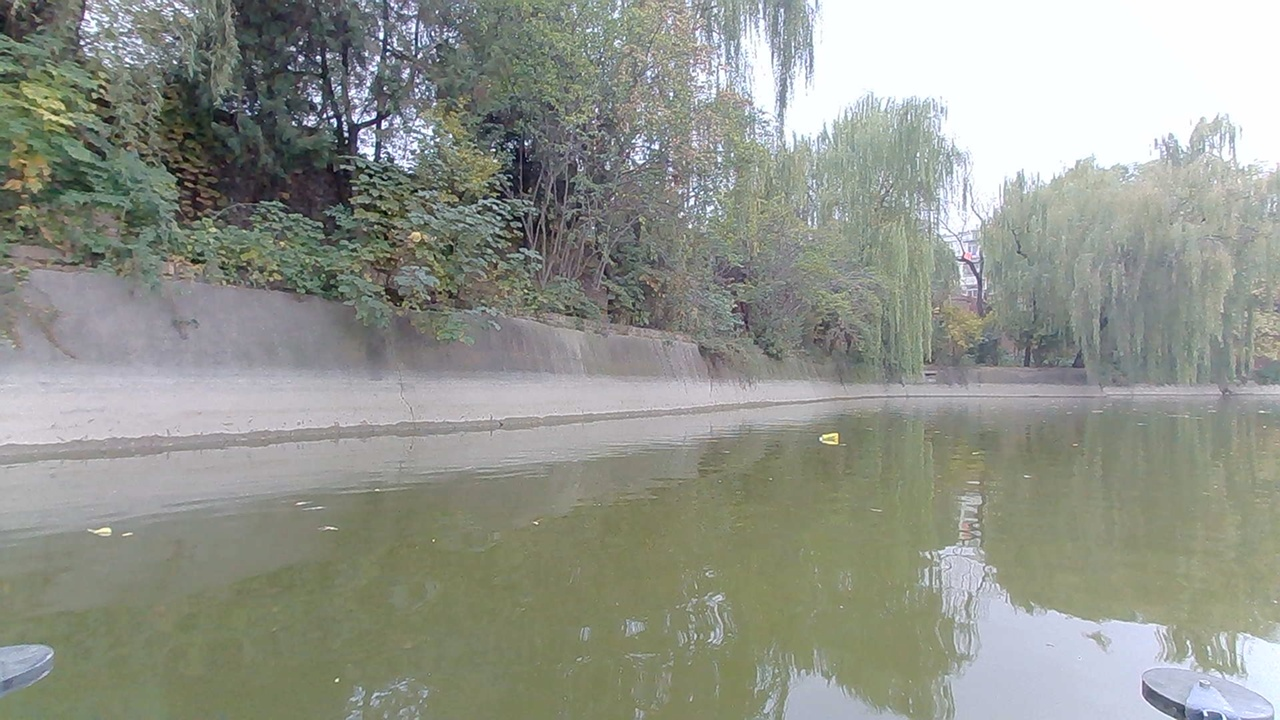bottle: (813, 428, 847, 451)
